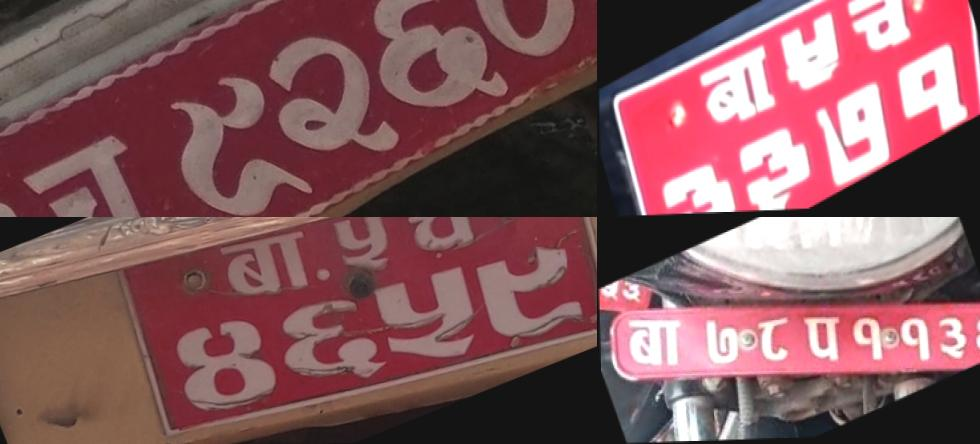1: (887, 31, 980, 154), (894, 308, 944, 380), (845, 304, 897, 370)
2: (249, 13, 408, 199)
3: (731, 113, 823, 213), (652, 148, 744, 216), (928, 303, 976, 372)
4: (153, 299, 292, 439)
5: (361, 251, 494, 388), (774, 4, 852, 101), (318, 217, 404, 289)
6: (343, 0, 517, 152), (262, 276, 394, 413), (962, 308, 980, 366)
7: (809, 71, 904, 196), (695, 306, 748, 376)
8: (429, 0, 597, 89), (748, 303, 802, 376)
9: (140, 58, 317, 217), (462, 226, 597, 361)
ba: (207, 217, 327, 324), (694, 38, 784, 143), (614, 298, 692, 382)
cha: (10, 124, 178, 217), (838, 0, 926, 69), (390, 217, 494, 275)
pa: (794, 299, 857, 374)
